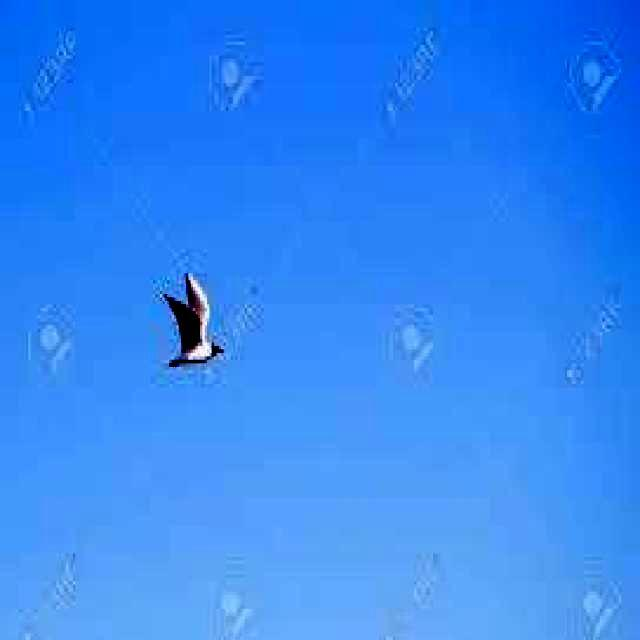bird: (166, 268, 224, 372)
